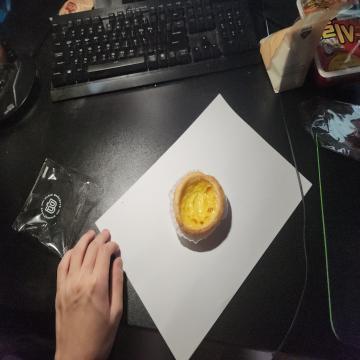EggTart: (172, 170, 225, 236)
